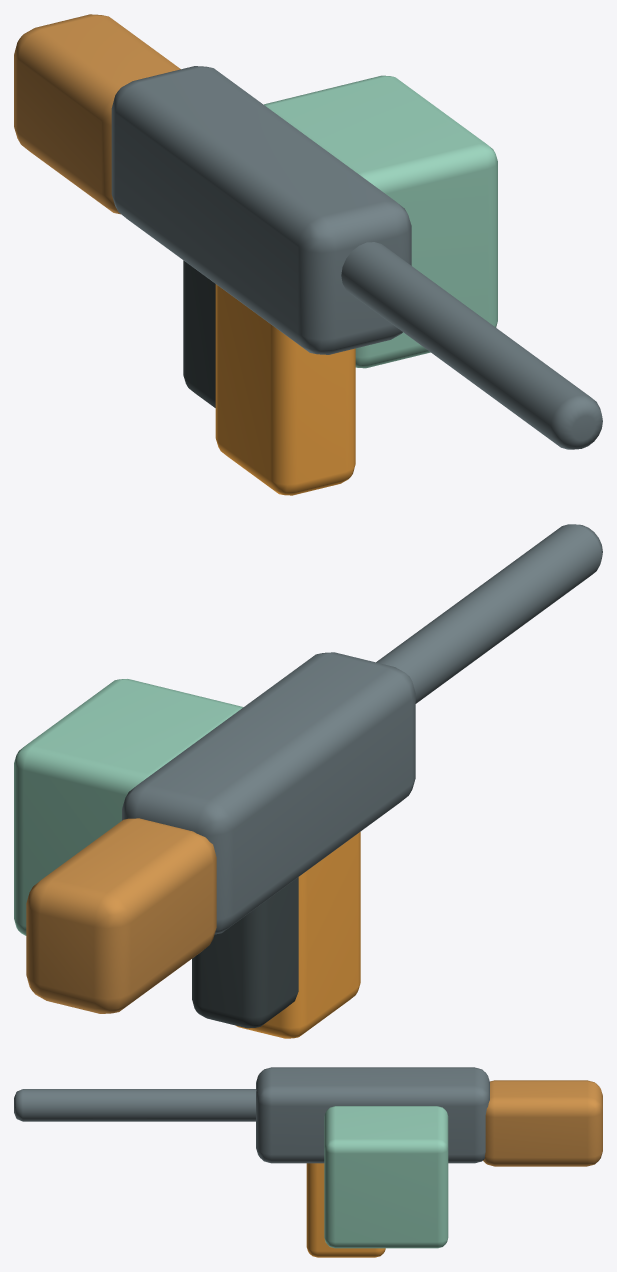
Rendered from weapon_mg.glb.
The picture shows the model from 3 angles, top to bottom: view 1: azimuth 30°, elevation 25°; view 2: azimuth 150°, elevation 25°; view 3: azimuth 270°, elevation 25°; orthographic projection. The views are drawn at different scales.
Visible parts, largest first — view 1: Receiver, Ammo box, Magazine, Stock, Weapon barrel, Grip; view 2: Receiver, Stock, Ammo box, Weapon barrel, Magazine, Grip; view 3: Ammo box, Receiver, Stock, Weapon barrel, Magazine.
Part boxes in pixels (bbox=[...]): Receiver: bbox=[111, 66, 411, 354]; Ammo box: bbox=[264, 75, 497, 368]; Magazine: bbox=[215, 284, 355, 495]; Stock: bbox=[14, 14, 180, 214]; Weapon barrel: bbox=[341, 242, 602, 449]; Grip: bbox=[183, 260, 215, 407]; Receiver: bbox=[122, 652, 415, 934]; Stock: bbox=[26, 818, 216, 1013]; Ammo box: bbox=[14, 679, 243, 935]; Weapon barrel: bbox=[376, 524, 602, 703]; Magazine: bbox=[235, 832, 360, 1038]; Grip: bbox=[192, 877, 298, 1028]; Ammo box: bbox=[324, 1106, 448, 1248]; Receiver: bbox=[256, 1067, 489, 1163]; Stock: bbox=[483, 1080, 602, 1166]; Weapon barrel: bbox=[14, 1089, 256, 1121]; Magazine: bbox=[306, 1163, 385, 1257].
Size of the model in its own units: 0.37 by 0.43 by 1.33.
